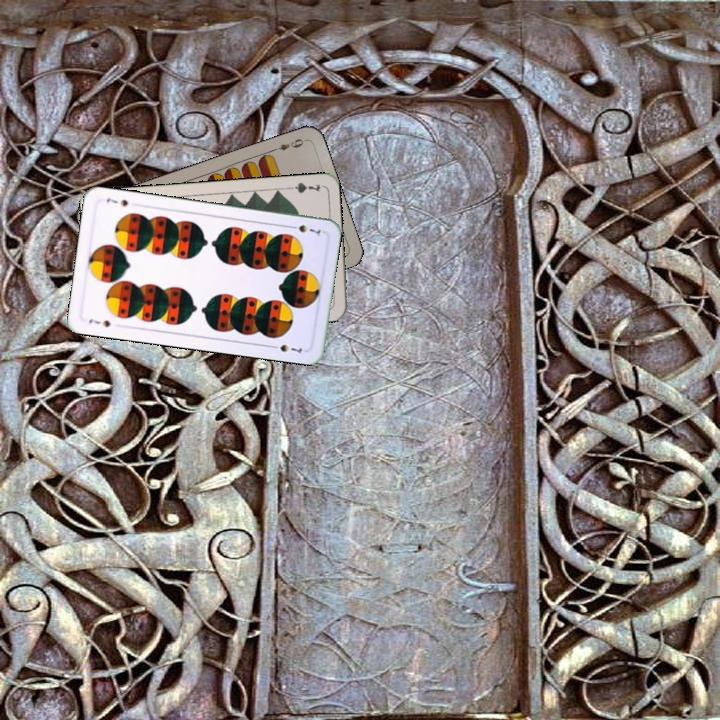E9: (268, 134, 308, 154)
G7: (283, 178, 323, 196)
S7: (285, 221, 323, 239), (85, 315, 113, 329)
